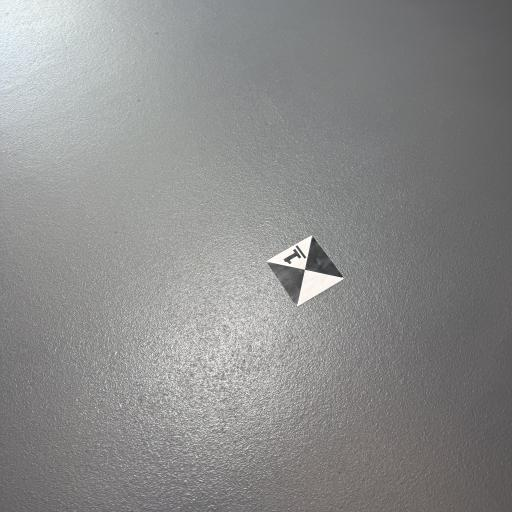target1: (263, 228, 349, 310)
